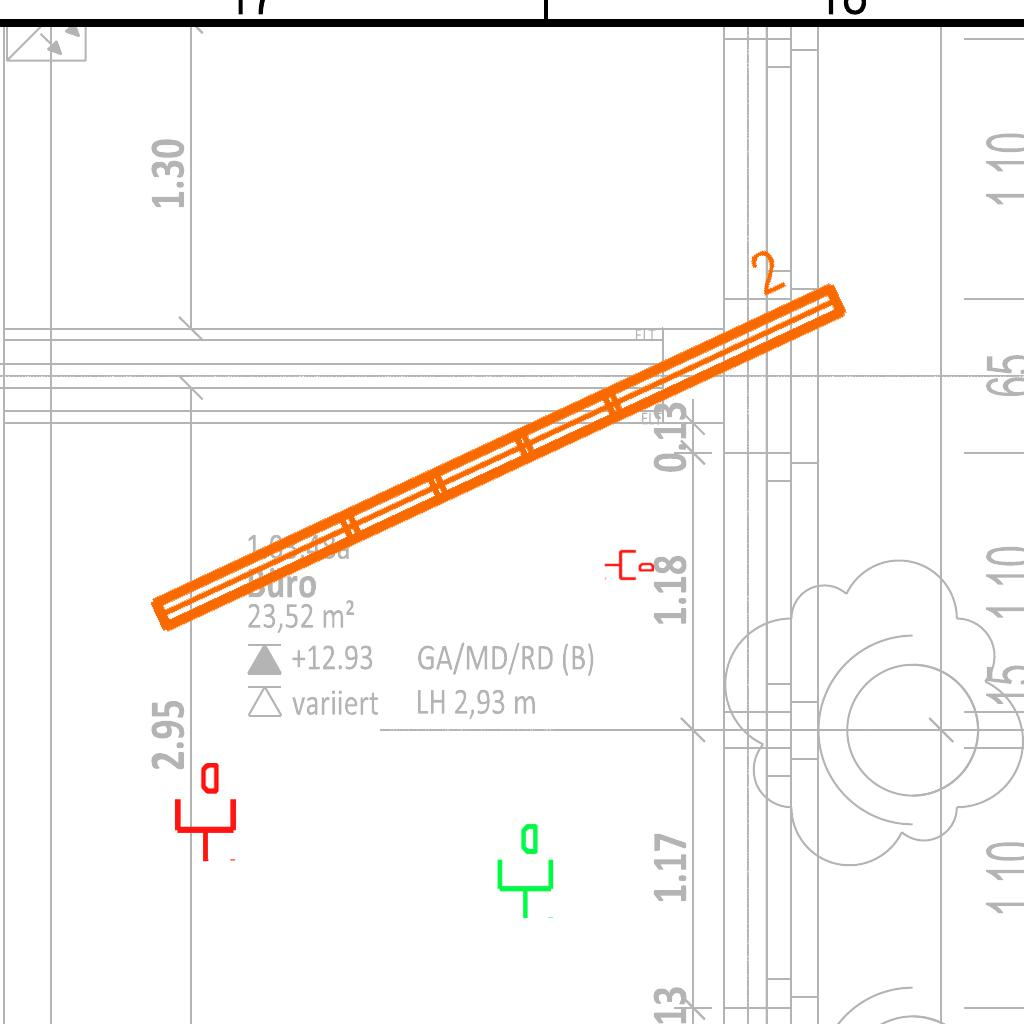Ambulanz_Pendelleuchte_LED: (112, 220, 862, 650)
Datenanschluss_einfach: (171, 763, 240, 863), (489, 821, 558, 921), (604, 548, 654, 582)
